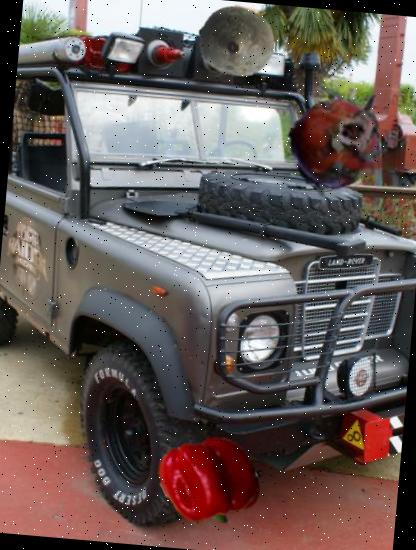Beetroot: (193, 0, 279, 85)
Pepper: (159, 427, 265, 533)
Pitahaya: (274, 77, 402, 205)
